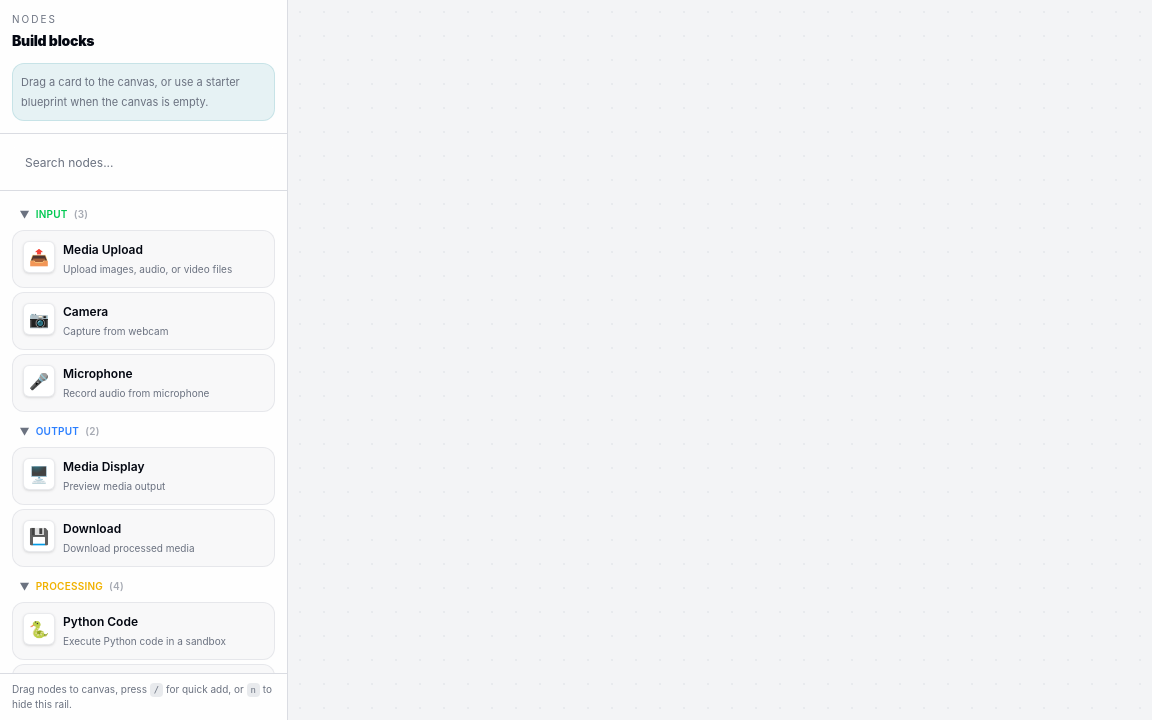
Scenario: NodePalette › filters nodes based on search term
Search for "Conditional" which is in the Logic category (expanded by default)
Type "Conditional" into the field with placeholder "Search nodes..." at (144, 162), box [12,146,275,178]
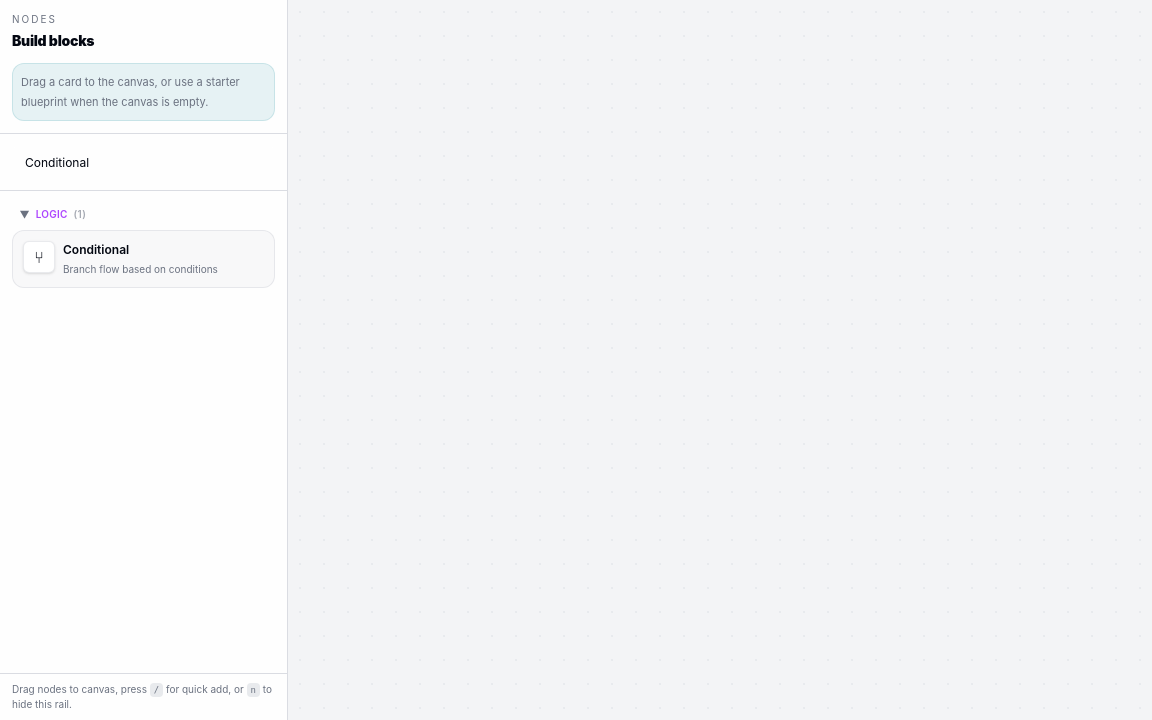
Now the text "Conditional" is shown, box [63,242,129,257]
Now the text "Media Upload" is gone
